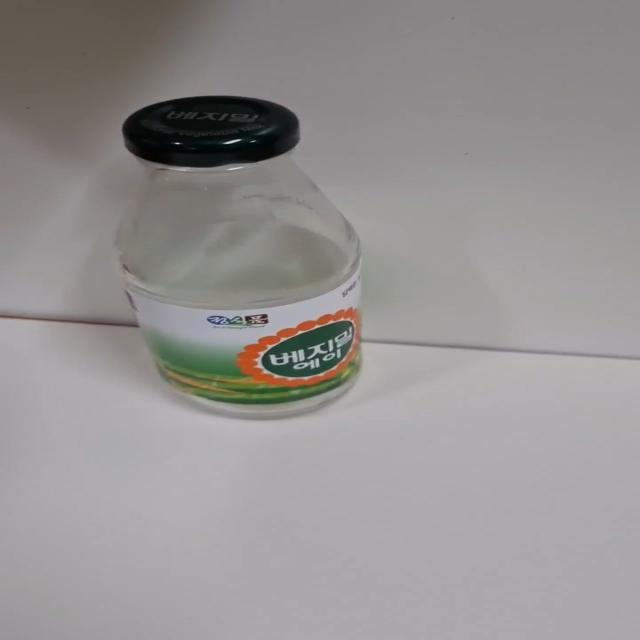Glass: (114, 94, 370, 415)
